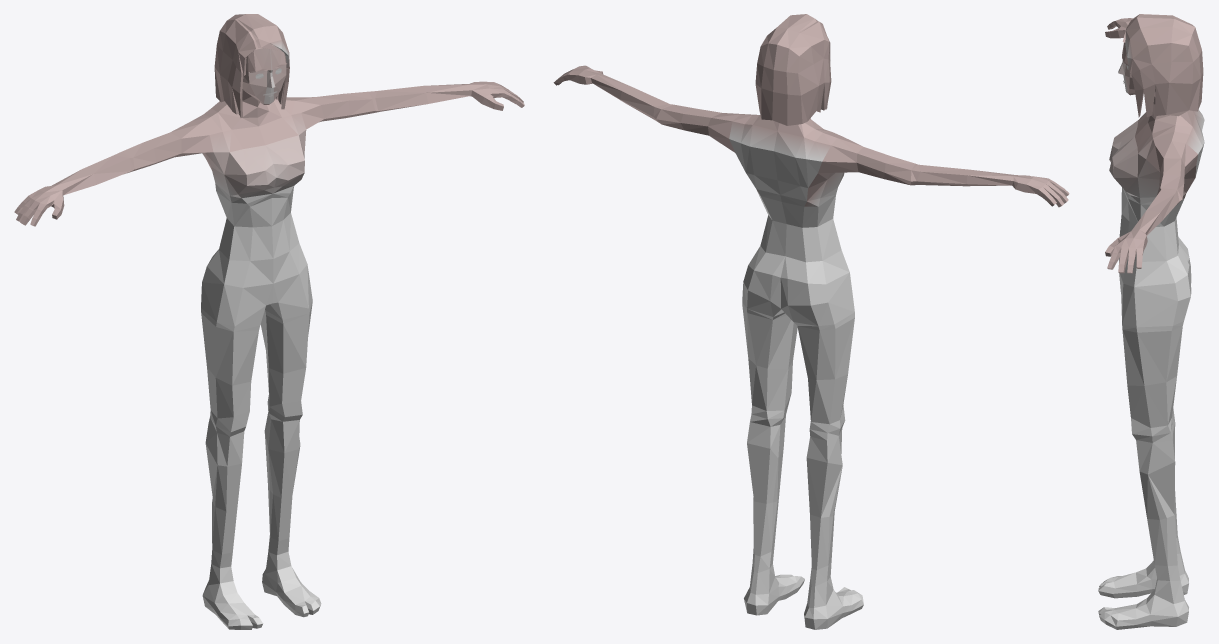
File: protester_01.gltf
3 views of the same model, side by side, from view 1: azimuth 30°, elevation 25°; view 2: azimuth 150°, elevation 25°; view 3: azimuth 270°, elevation 25° (orthographic).
Visible parts, largest first — view 1: female_01; view 2: female_01; view 3: female_01.
Part boxes in pixels (left/top/right/bottom): female_01: left=14, top=14, right=524, bottom=629; female_01: left=553, top=14, right=1069, bottom=629; female_01: left=1098, top=14, right=1204, bottom=629.
Size of the model in its own units: 1.68 by 1.87 by 0.3054.
